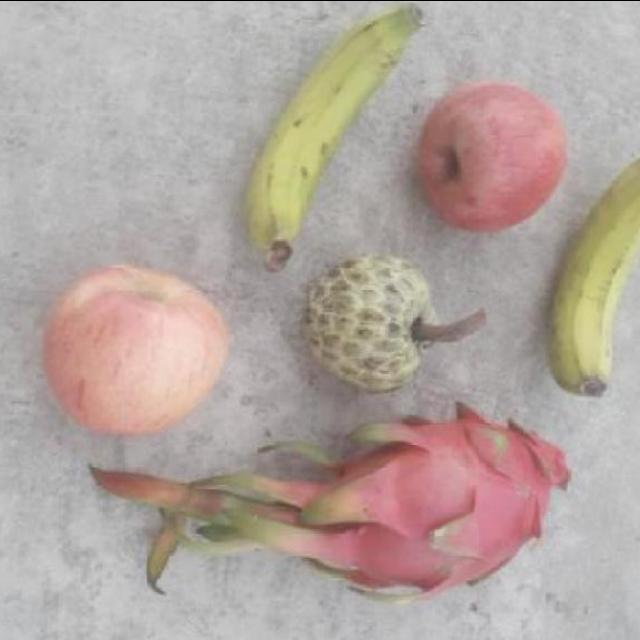apple: (44, 260, 236, 433), (412, 69, 569, 232)
banana: (244, 0, 428, 251), (549, 123, 640, 399)
dragon fruit: (306, 388, 572, 610)
sugar apple: (299, 251, 483, 398)
